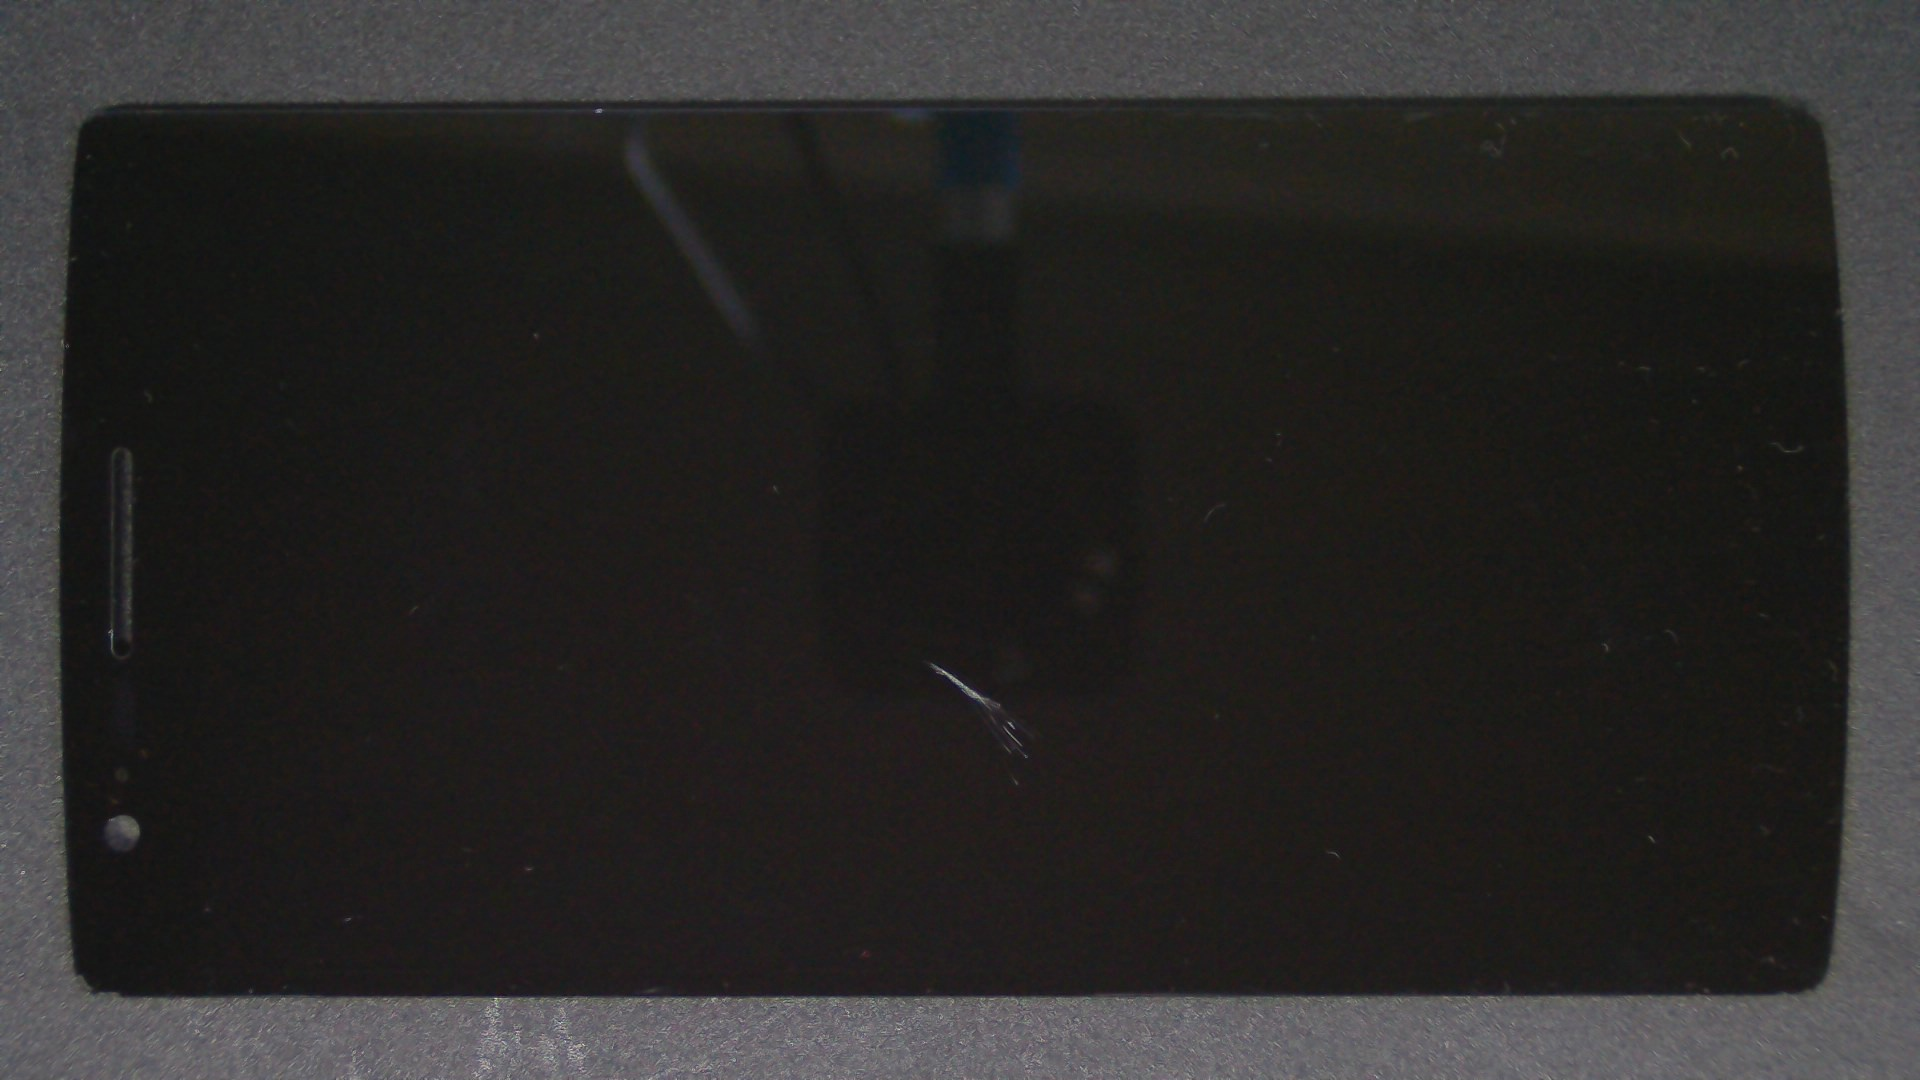oil: (465, 330, 1395, 992)
